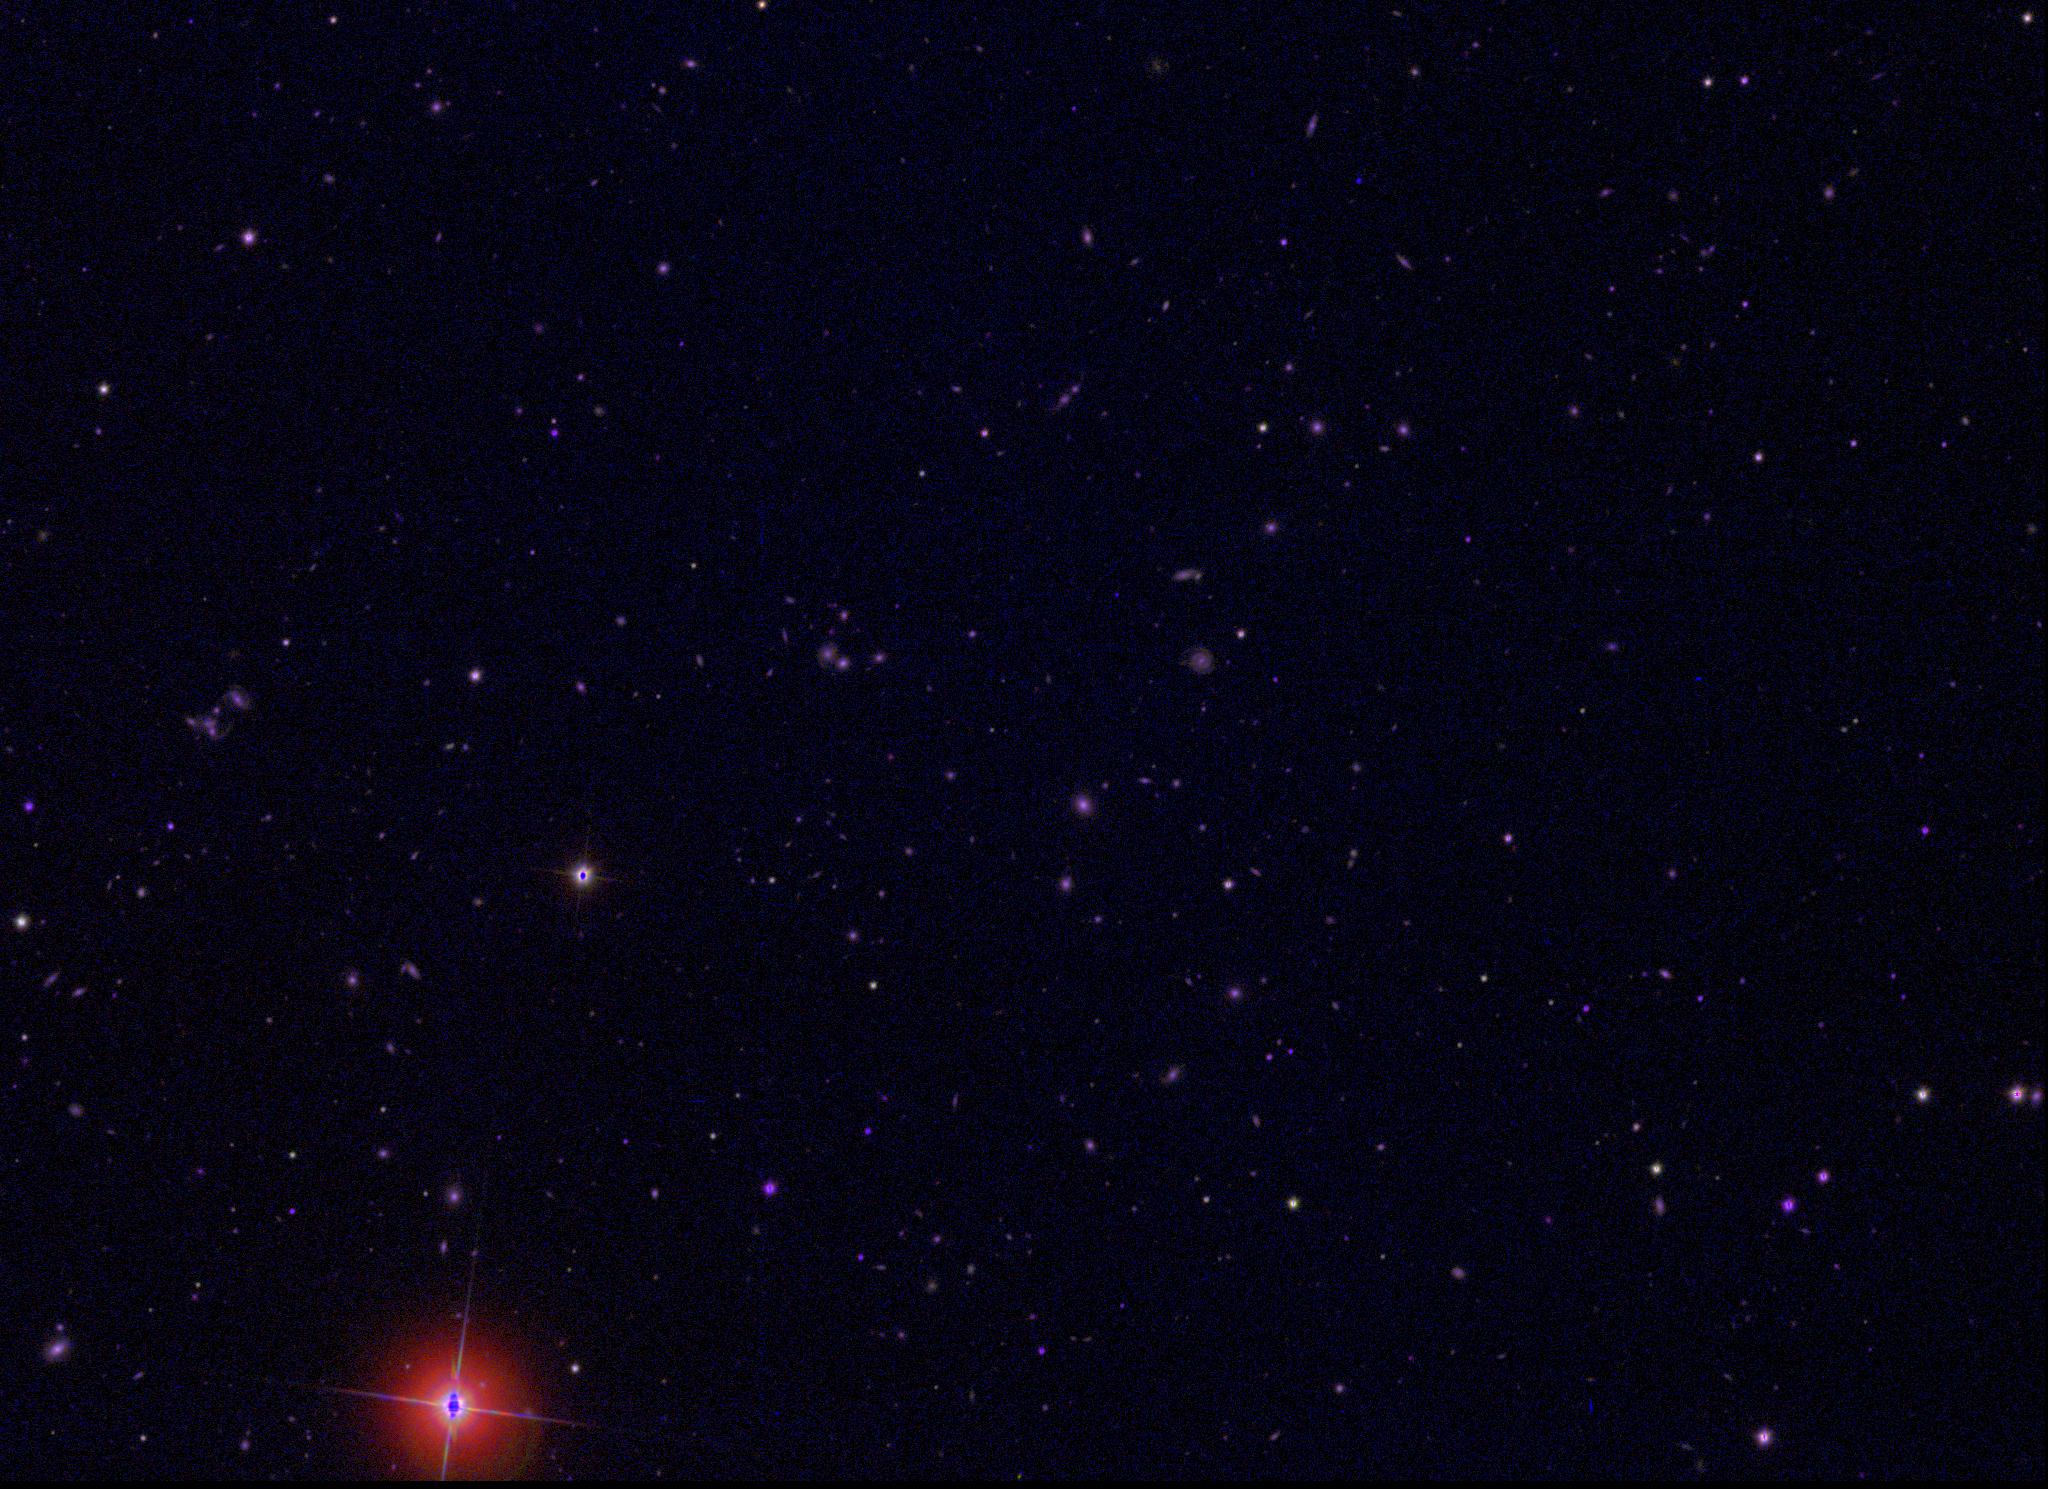L: (1350, 175, 1364, 189)
